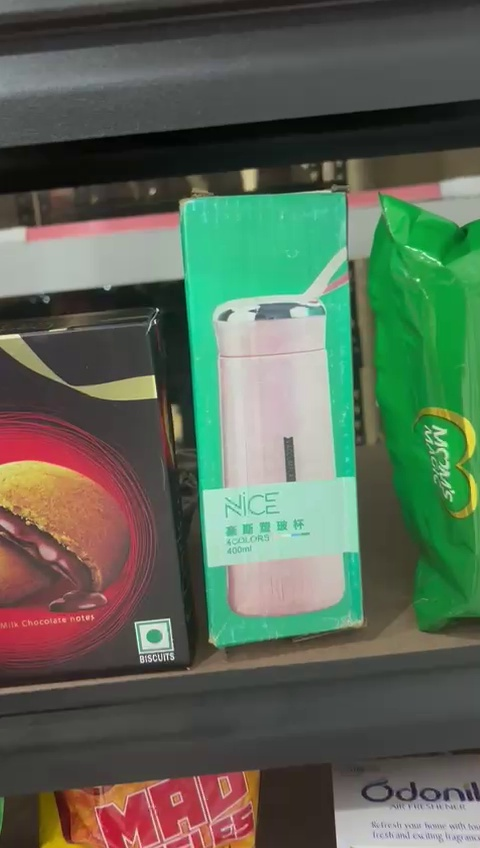Bottle: (175, 192, 365, 640)
